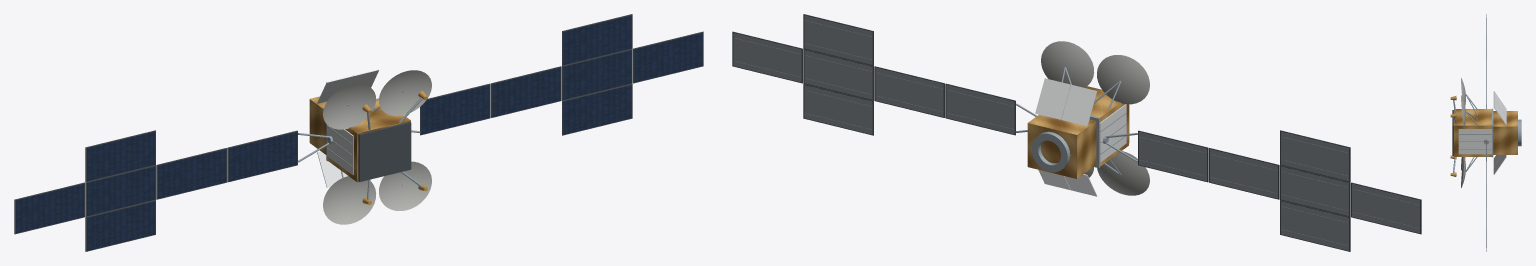
The model's file is ref-eurostar-3000lxh-44333.glb.
The picture shows the model from 3 angles, left to right: view 1: azimuth 30°, elevation 25°; view 2: azimuth 150°, elevation 25°; view 3: azimuth 270°, elevation 25°; orthographic projection. The views are drawn at different scales.
Visible parts, largest first — view 1: Solar cell panel (×12), Communications reflector (×4), Earth-facing deck, Payload module, Radiator face, Deployed radiator leaf (×2), Service module; view 2: Rear array substrate (×12), Communications reflector (×3), Service module, Deployed radiator leaf (×3), Radiator face, Launch adapter ring, Payload module; view 3: Service module, Payload module, Radiator face, Deployed radiator leaf (×4), Communications reflector (×3), Module interface, Launch adapter ring, Earth-facing deck, Radiator seam.
Part boxes in pixels (left/top/right/bottom): Solar cell panel (×12): left=16, top=15, right=702, bottom=250; Communications reflector (×4): left=323, top=70, right=431, bottom=224; Earth-facing deck: left=358, top=121, right=411, bottom=181; Payload module: left=328, top=99, right=410, bottom=182; Radiator face: left=326, top=124, right=353, bottom=174; Deployed radiator leaf (×2): left=317, top=75, right=352, bottom=187; Service module: left=309, top=96, right=326, bottom=154; Rear array substrate (×12): left=733, top=15, right=1419, bottom=250; Communications reflector (×3): left=1041, top=41, right=1149, bottom=195; Service module: left=1027, top=114, right=1096, bottom=178; Deployed radiator leaf (×3): left=1035, top=78, right=1097, bottom=196; Radiator face: left=1099, top=104, right=1126, bottom=162; Launch adapter ring: left=1031, top=131, right=1070, bottom=172; Payload module: left=1064, top=86, right=1128, bottom=166; Service module: left=1493, top=111, right=1517, bottom=154; Payload module: left=1454, top=109, right=1491, bottom=156; Radiator face: left=1458, top=129, right=1492, bottom=154; Deployed radiator leaf (×4): left=1493, top=91, right=1506, bottom=174; Communications reflector (×3): left=1461, top=78, right=1465, bottom=187; Module interface: left=1491, top=108, right=1493, bottom=157; Launch adapter ring: left=1518, top=119, right=1521, bottom=146; Earth-facing deck: left=1452, top=110, right=1453, bottom=155; Radiator seam: left=1459, top=148, right=1491, bottom=149.
Size of the model in its own units: 30.77 by 5.94 by 4.28.
8 materials, 2 textured.
